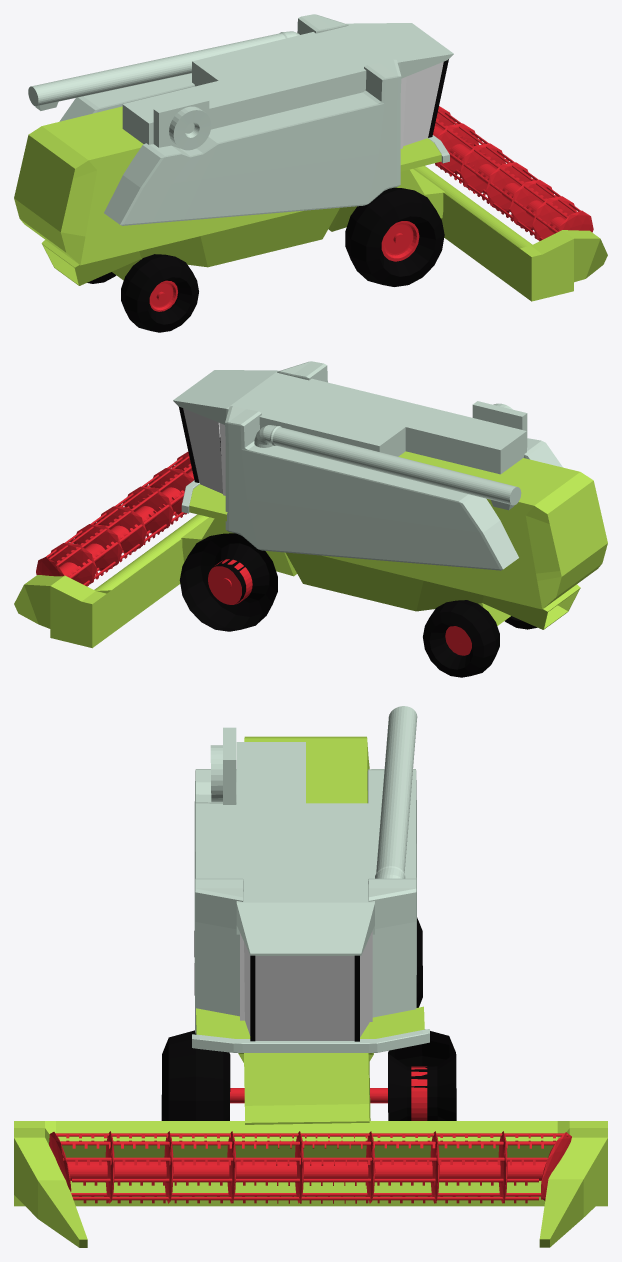
The model's file is combine V4.fbx.
The picture shows the model from 3 angles, top to bottom: view 1: azimuth 30°, elevation 25°; view 2: azimuth 150°, elevation 25°; view 3: azimuth 270°, elevation 25°; orthographic projection. The views are drawn at different scales.
Visible parts, largest first — view 1: side panels, chassis, roof and tank doors, tynes 1.007, header main part, wheel front left, wheel back left, feeder arm, glass left side, feeder cylinder, fan, fan background; view 2: side panels, chassis, roof and tank doors, header main part, tynes 1.007, wheel front right, feeder arm, wheel back right, glass right side, feeder cylinder, fan background; view 3: header main part, roof and tank doors, tynes 1.007, side panels, chassis, windshield, wheel front right, wheel front left, feeder arm, front bevel, fan background, glass right side (+1 smaller).
Part boxes in pixels (<box>): side panels: <box>59,14,401,225</box>; chassis: <box>14,106,445,285</box>; roof and tank doors: <box>122,23,453,144</box>; tynes 1.007: <box>433,106,593,241</box>; header main part: <box>441,193,607,301</box>; wheel front left: <box>345,187,444,286</box>; wheel back left: <box>121,254,198,332</box>; feeder arm: <box>28,31,299,110</box>; glass left side: <box>403,62,443,146</box>; feeder cylinder: <box>413,166,532,248</box>; fan: <box>169,106,211,150</box>; fan background: <box>153,97,209,148</box>; side panels: <box>225,361,562,570</box>; chassis: <box>181,451,607,629</box>; roof and tank doors: <box>173,370,526,474</box>; header main part: <box>14,539,183,648</box>; tynes 1.007: <box>36,452,194,586</box>; wheel front right: <box>179,533,277,631</box>; feeder arm: <box>254,425,521,510</box>; wheel back right: <box>423,600,499,677</box>; glass right side: <box>183,408,222,493</box>; feeder cylinder: <box>94,514,208,590</box>; fan background: <box>472,401,527,447</box>; header main part: <box>14,1121,607,1247</box>; roof and tank doors: <box>236,742,374,955</box>; tynes 1.007: <box>49,1131,571,1203</box>; side panels: <box>194,769,416,1033</box>; chassis: <box>196,736,424,1124</box>; windshield: <box>255,956,354,1040</box>; wheel front right: <box>388,1031,456,1120</box>; wheel front left: <box>161,1030,230,1120</box>; feeder arm: <box>375,706,417,878</box>; front bevel: <box>192,1029,429,1052</box>; fan background: <box>223,727,236,804</box>; glass right side: <box>360,932,371,1036</box>.
Size of the model in its own units: 2280 by 981 by 1849.
